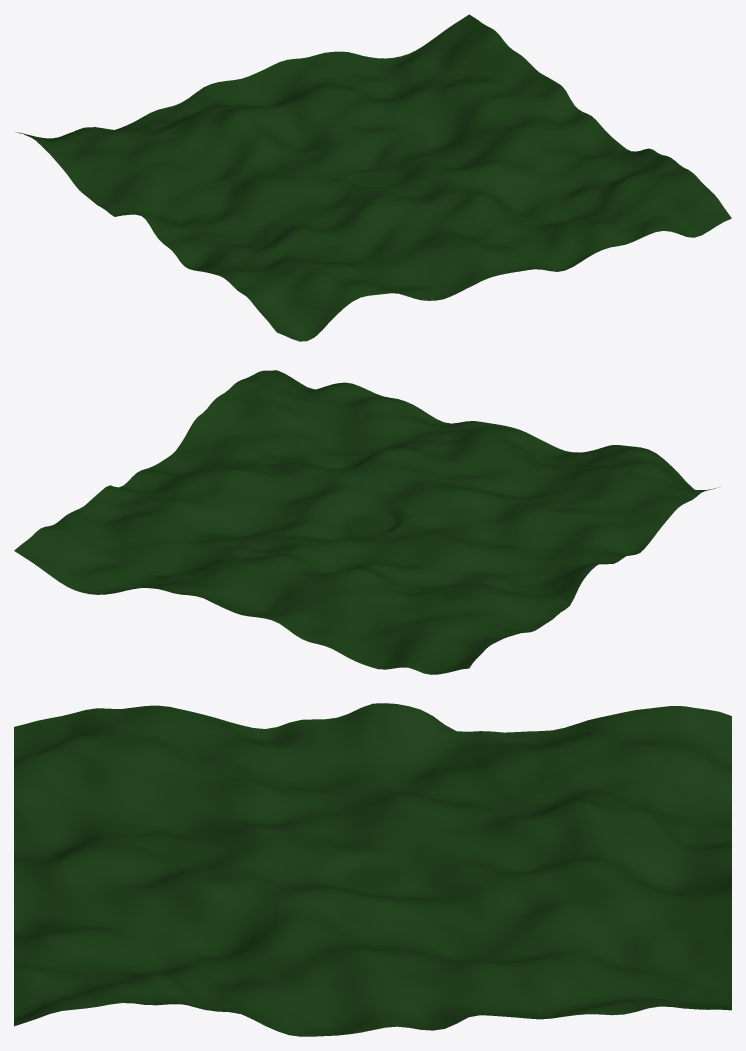
Rendered from hillsGround.glb.
The picture shows the model from 3 angles, top to bottom: view 1: azimuth 30°, elevation 25°; view 2: azimuth 150°, elevation 25°; view 3: azimuth 270°, elevation 25°; orthographic projection. The views are drawn at different scales.
Visible parts, largest first — view 1: hillsGround00, hillsGround05, hillsGround02, hillsGround40, hillsGround42, hillsGround41, hillsGround12, hillsGround55, hillsGround43, hillsGround24, hillsGround14, hillsGround31 (+24 smaller); view 2: hillsGround51, hillsGround15, hillsGround55, hillsGround10, hillsGround34, hillsGround52, hillsGround50, hillsGround04, hillsGround22, hillsGround23, hillsGround53, hillsGround21 (+24 smaller); view 3: hillsGround01, hillsGround54, hillsGround13, hillsGround11, hillsGround03, hillsGround25, hillsGround20, hillsGround50, hillsGround30, hillsGround35, hillsGround42, hillsGround33 (+24 smaller).
Part boxes in pixels (x1,y1,x2,y2): hillsGround00: (233,263,352,341); hillsGround05: (612,169,731,237); hillsGround02: (385,236,503,300); hillsGround40: (58,144,176,207); hillsGround42: (210,103,328,160); hillsGround41: (134,117,252,178); hillsGround12: (341,202,459,261); hillsGround55: (393,14,512,80); hillsGround43: (286,89,404,142); hillsGround24: (449,128,567,190); hillsGround14: (493,177,611,228); hillsGround31: (177,161,296,219); hillsGround51: (318,590,436,669); hillsGround15: (189,385,308,456); hillsGround55: (14,522,133,593); hillsGround10: (569,479,687,548); hillsGround34: (177,472,296,538); hillsGround52: (242,576,360,643); hillsGround50: (393,616,512,674); hillsGround04: (309,383,428,444); hillsGround22: (373,482,492,535); hillsGround23: (297,468,416,524); hillsGround53: (166,562,284,614); hillsGround21: (450,507,567,563); hillsGround01: (14,749,133,835); hillsGround54: (612,913,731,994); hillsGround13: (133,863,253,934); hillsGround11: (133,752,253,832); hillsGround03: (14,861,133,936); hillsGround25: (253,958,372,1036); hillsGround20: (253,703,372,784); hillsGround50: (612,706,731,791); hillsGround30: (373,703,492,784); hillsGround35: (373,958,492,1030); hillsGround42: (492,800,612,872); hillsGround33: (373,868,492,936).
Bounding box in the file's own units: 60 × 5.25 × 60.
